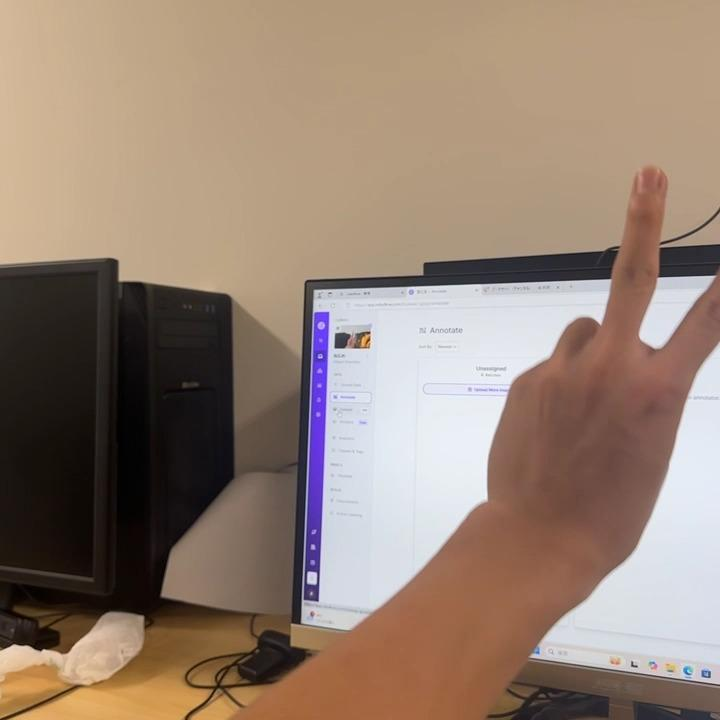without_gloves: (472, 119, 720, 585)
